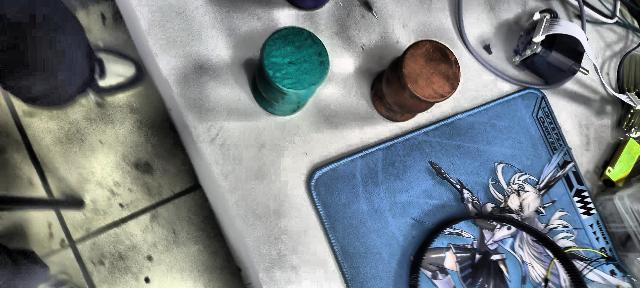blue: (286, 0, 328, 12)
green: (250, 27, 332, 119)
red: (366, 43, 459, 125)
